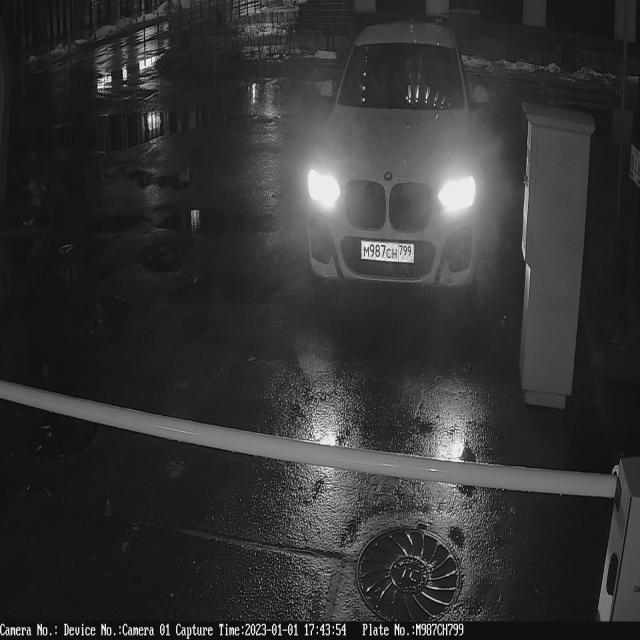car-plate-numbers: (361, 237, 417, 268)
